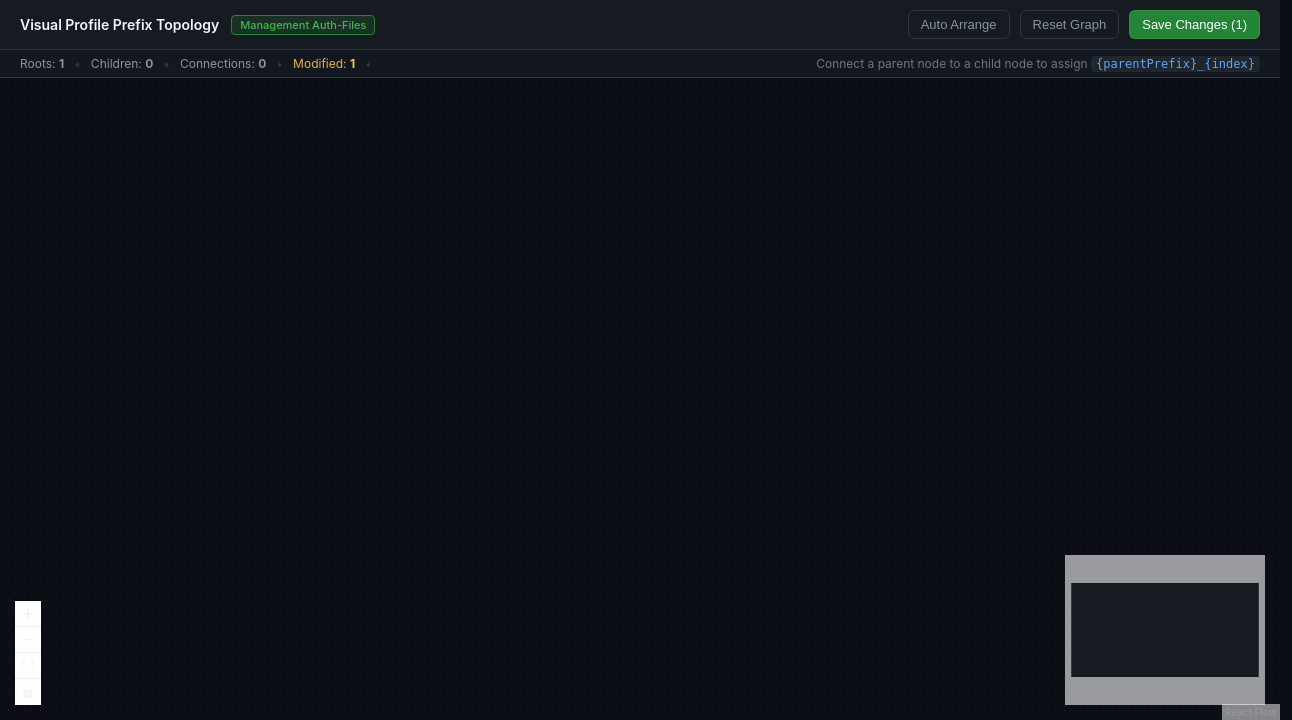
Test case: ProfileGraph Component and onConnect Integration › VP-4 Explicit Save Changes, PATCH, Reconciliation, and Partial Failure › sanitizes 401 Unauthorized and 404 Not Found errors without leaking secrets
Click the button with test id "btn-save-changes": (1195, 24) [1129,10,1260,39]
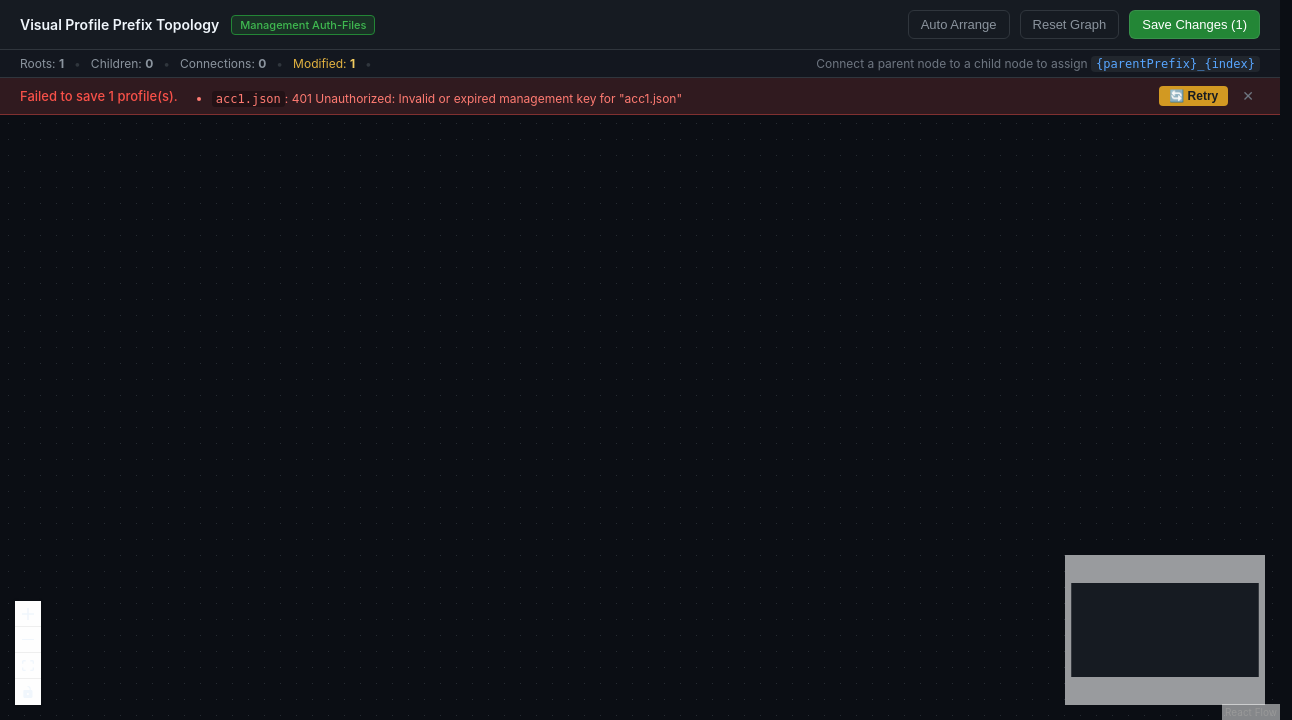
Expected: the element with test id "save-status-error" is shown, [0,78,1280,115]
Expected: the list item "401 Unauthorized" is shown, [292,90,682,106]
